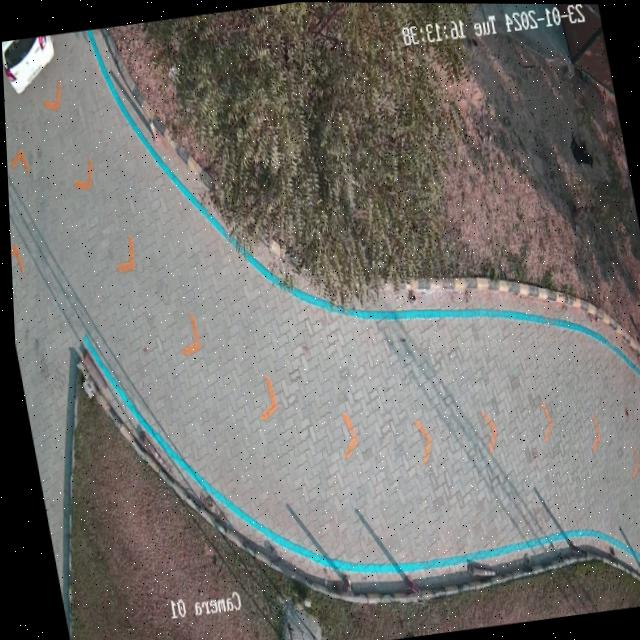car: (1, 36, 54, 93)
